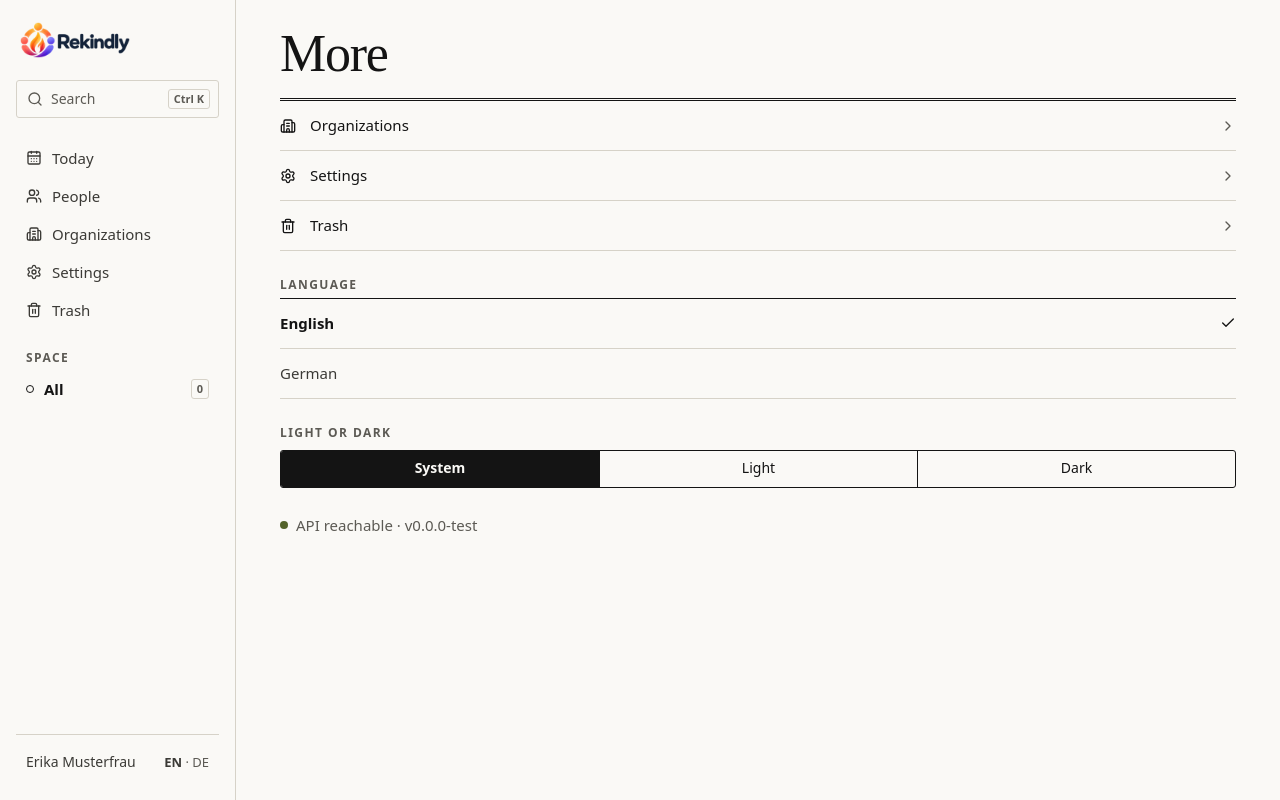
it: App shell › switches the language on the More page
This screenshot has width=1280, height=800.
Click the radio button labelled "German".
click(309, 373)  # box x1=280 y1=349 x2=1236 y2=399
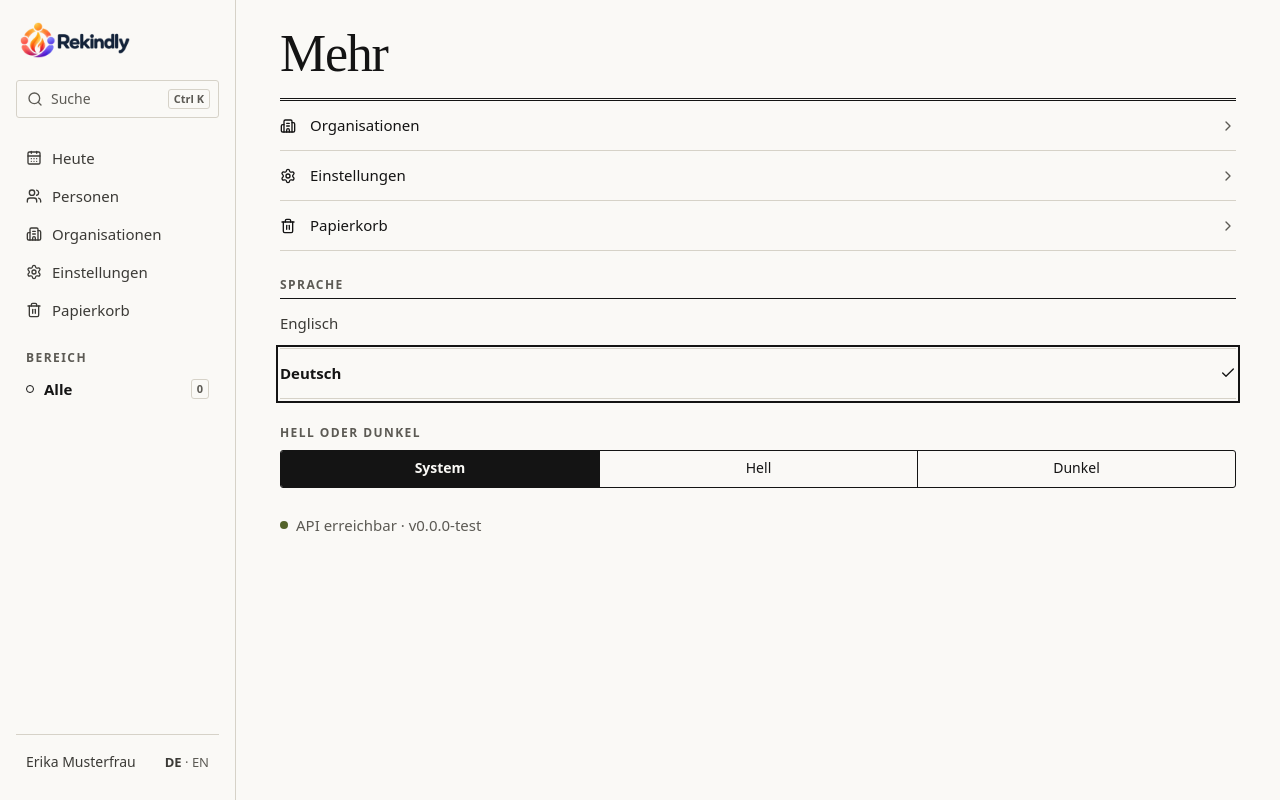
expect the heading "Mehr" is shown: met, box x1=280 y1=25 x2=387 y2=82
